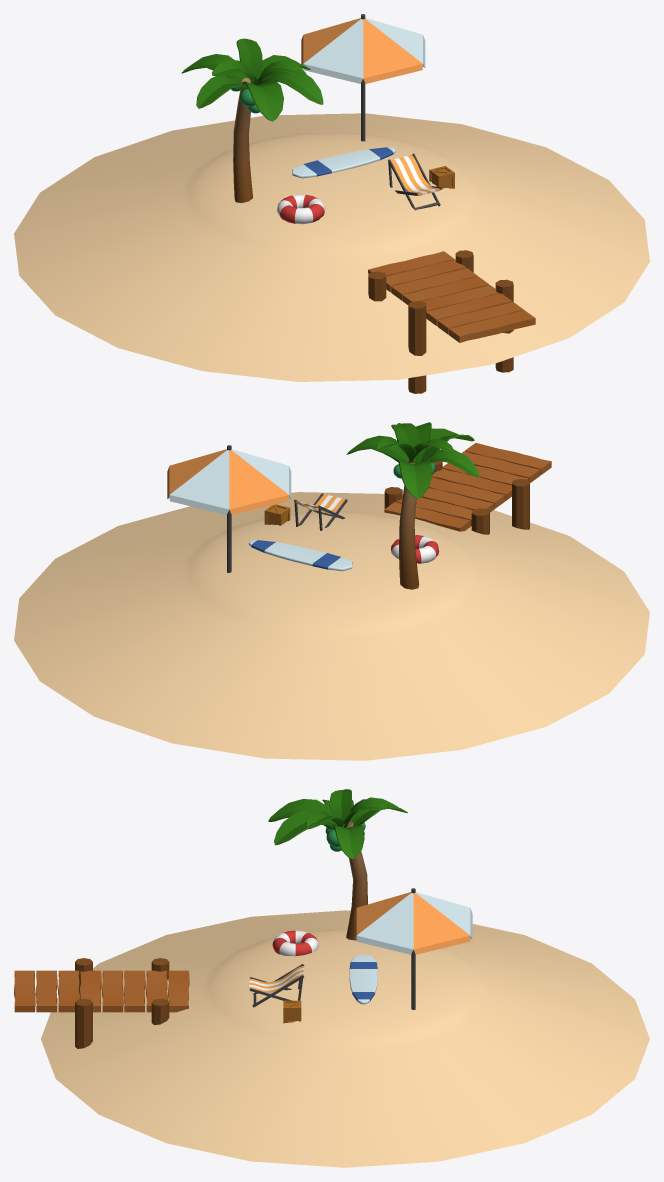
The model's file is Beach.fbx.
3 views of the same model, one above another, from view 1: azimuth 30°, elevation 25°; view 2: azimuth 150°, elevation 25°; view 3: azimuth 270°, elevation 25° (orthographic). The views are drawn at different scales.
Parts seen in each view (by area): view 1: Sand, Bridge_1, umbrella, la, than, surfboard, sun_loungers, swimming_float; view 2: Sand, Bridge_1, umbrella, la, than, surfboard, sun_loungers, swimming_float; view 3: Sand, Bridge_1, umbrella, la, than, surfboard, sun_loungers, swimming_float.
Boxes of the visible parts, <box> form: Sand: <box>14,113,649,381</box>; Bridge_1: <box>368,250,535,393</box>; umbrella: <box>301,14,425,141</box>; la: <box>181,38,323,121</box>; than: <box>231,77,259,203</box>; surfboard: <box>292,147,395,178</box>; sun_loungers: <box>388,153,441,210</box>; swimming_float: <box>277,194,325,224</box>; Sand: <box>14,492,649,760</box>; Bridge_1: <box>384,443,551,534</box>; umbrella: <box>167,445,291,572</box>; la: <box>346,422,479,498</box>; than: <box>393,461,435,589</box>; surfboard: <box>248,540,352,571</box>; sun_loungers: <box>294,493,347,530</box>; swimming_float: <box>391,535,439,563</box>; Sand: <box>41,910,649,1167</box>; Bridge_1: <box>14,958,189,1048</box>; umbrella: <box>354,888,472,1009</box>; la: <box>268,789,407,859</box>; than: <box>325,821,367,940</box>; surfboard: <box>349,954,377,1004</box>; sun_loungers: <box>249,964,304,1007</box>; swimming_float: <box>272,930,318,956</box>.
Bounding box in the file's own units: 3120 × 1303 × 3258.
